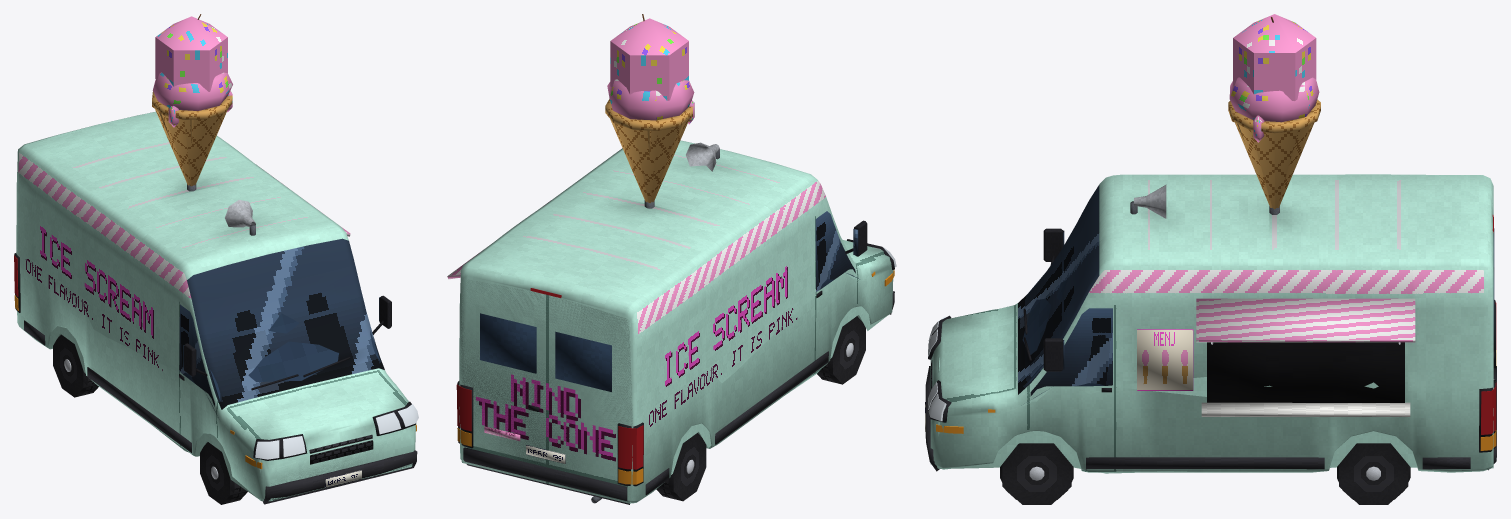
Rendered from p_car_icecream.glb.
The picture shows the model from 3 angles, left to right: view 1: azimuth 30°, elevation 25°; view 2: azimuth 150°, elevation 25°; view 3: azimuth 270°, elevation 25°; orthographic projection. The views are drawn at different scales.
Parts seen in each view (by area): view 1: shell, lod1_mesh, lamps; view 2: shell, lod1_mesh, tails, inds; view 3: shell, lod1_mesh, tails, lamps.
Boxes of the visible parts, box(x1,y1,x2,y2) form: shell: box(14, 14, 417, 504); lod1_mesh: box(49, 16, 416, 504); lamps: box(255, 404, 418, 459); shell: box(447, 14, 894, 504); lod1_mesh: box(459, 18, 893, 503); tails: box(456, 288, 643, 469); inds: box(457, 270, 894, 484); shell: box(925, 17, 1496, 472); lod1_mesh: box(930, 14, 1493, 504); tails: box(1481, 215, 1496, 434); lamps: box(928, 316, 946, 421).
Bounding box in the file's own units: 2.87 × 4.76 × 5.49.
Materials: 6 (3 with a texture image).
